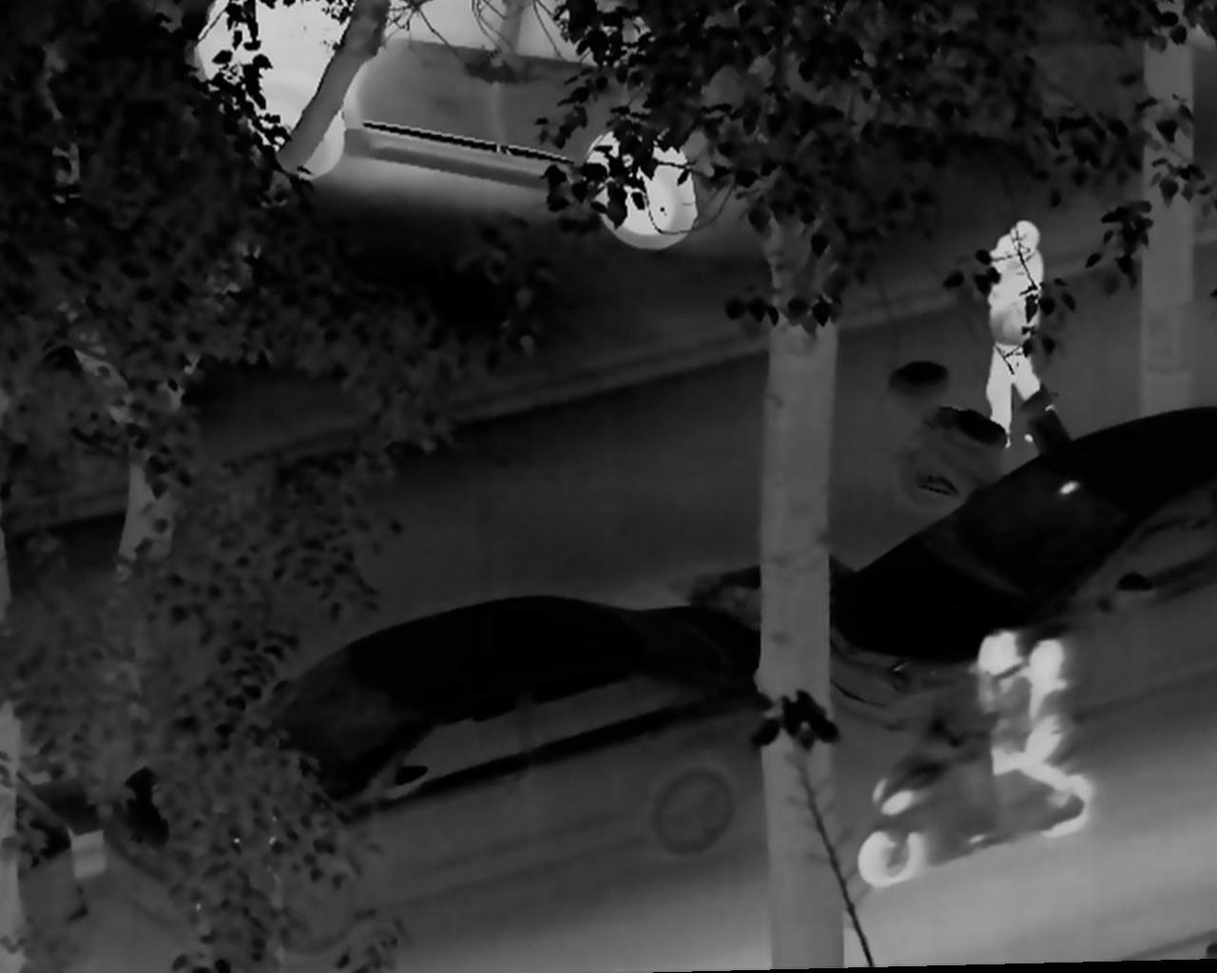person: (969, 220, 1059, 459), (939, 614, 1035, 786), (1010, 637, 1094, 814)
